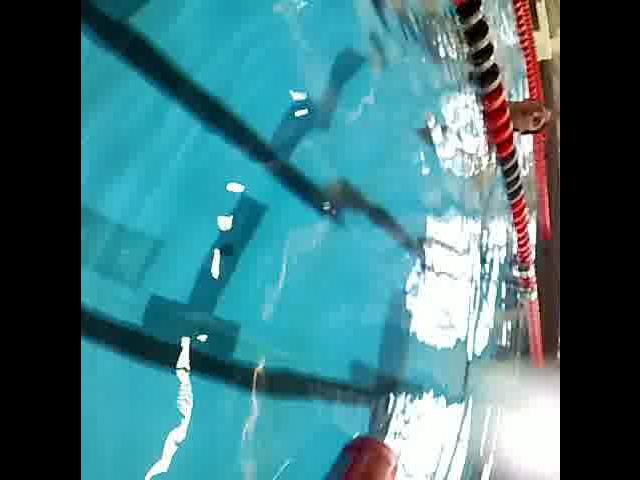Can: (294, 431, 402, 480)
